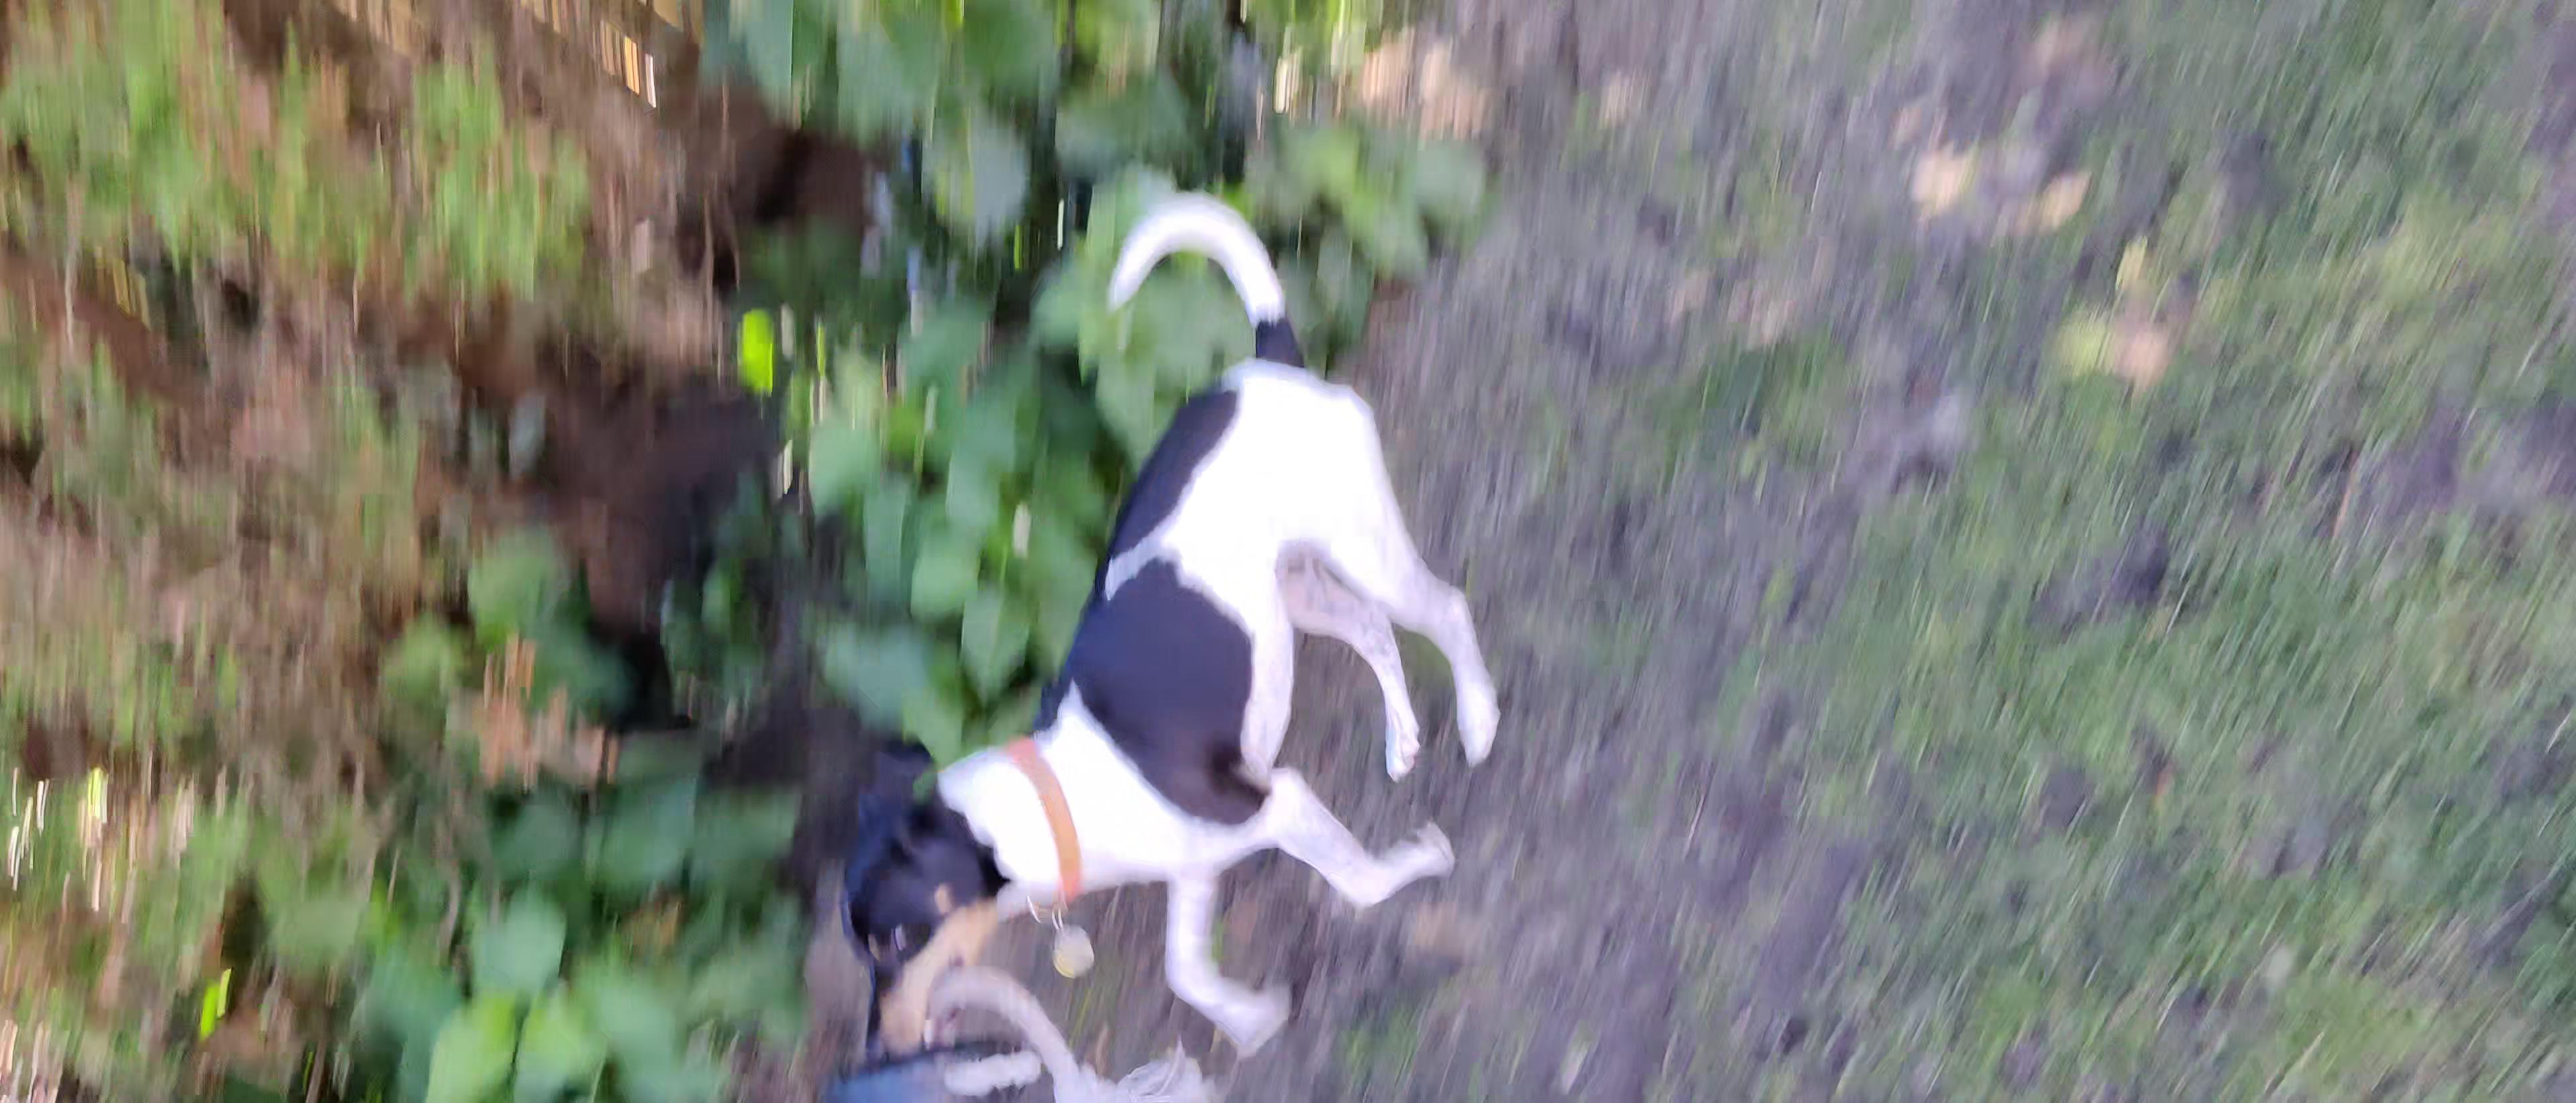Dog: (833, 166, 1502, 1077)
